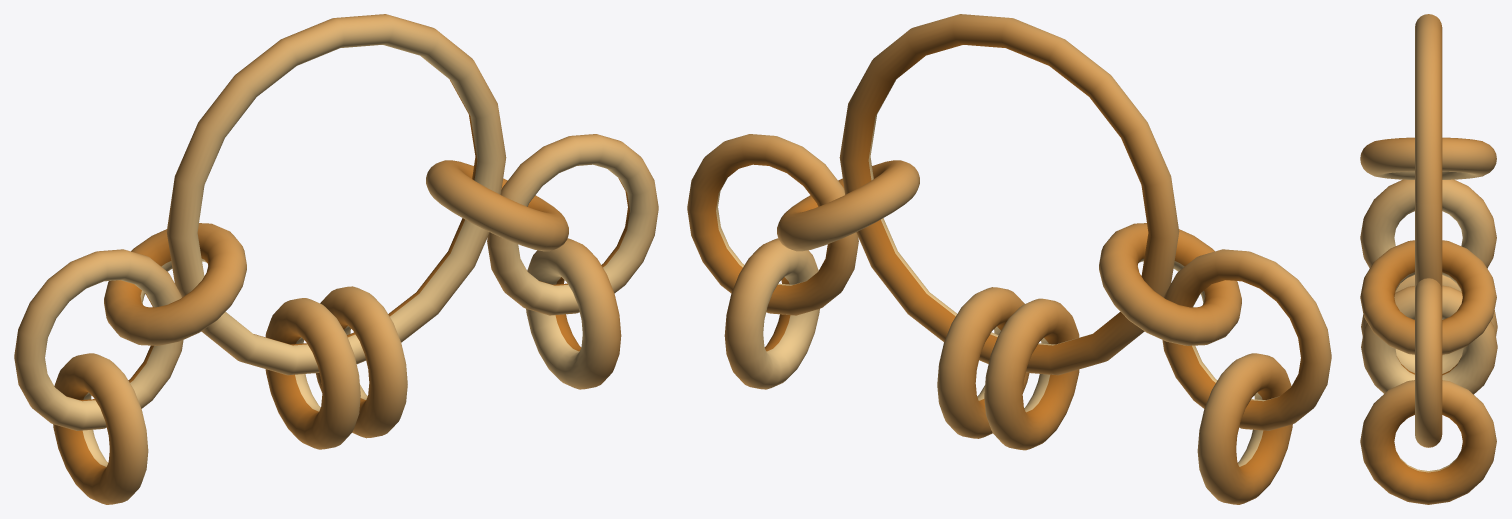
Rendered from hashigo_n_a.fbx.
3 views of the same model, side by side, from view 1: azimuth 30°, elevation 25°; view 2: azimuth 150°, elevation 25°; view 3: azimuth 270°, elevation 25° (orthographic). The views are drawn at different scales.
Parts seen in each view (by area): view 1: t1; view 2: t1; view 3: t1.
Part boxes in pixels (bbox=[...]): t1: bbox=[14, 14, 658, 504]; t1: bbox=[687, 14, 1331, 504]; t1: bbox=[1360, 14, 1497, 504].
Size of the model in its own units: 19.09 by 12.03 by 4.02.
Materials: 1 (1 with a texture image).
